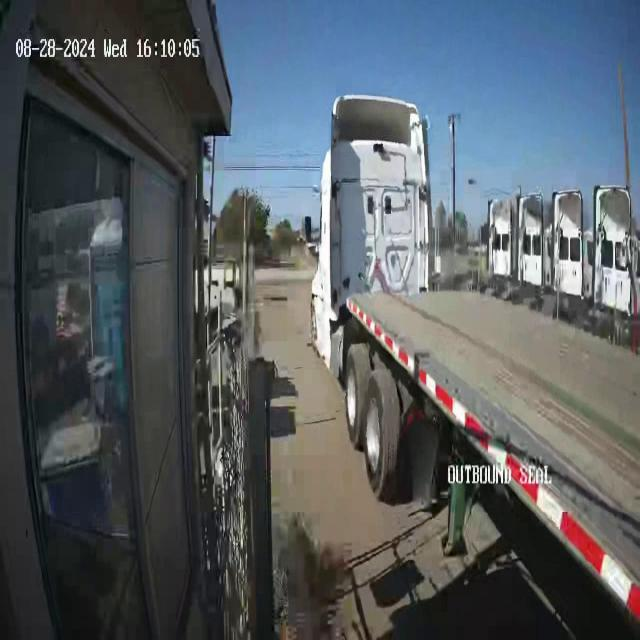TRUCK_OUT: (307, 92, 484, 525)
